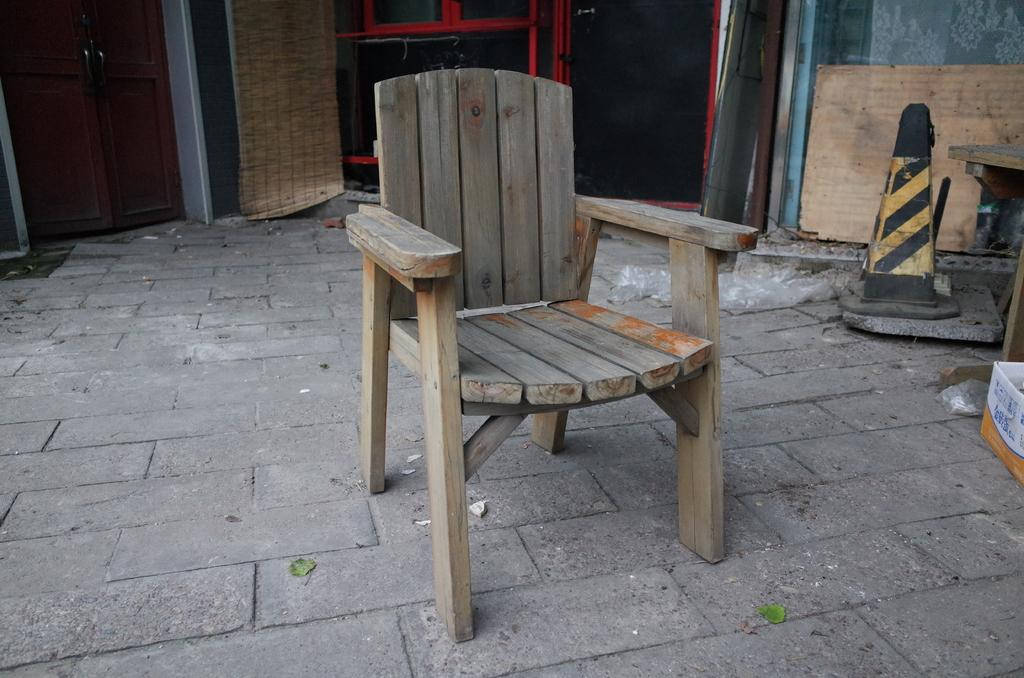Chair: (340, 60, 761, 663)
